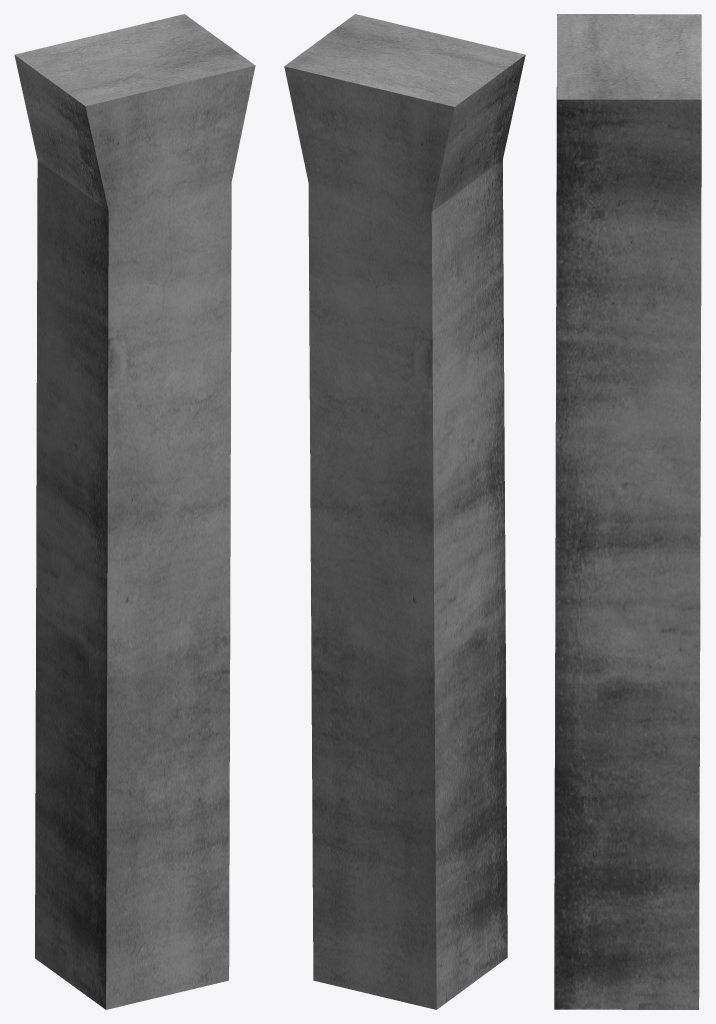
Rendered from pilarSmall.fbx.
3 renders of one model, left to right at view 1: azimuth 30°, elevation 25°; view 2: azimuth 150°, elevation 25°; view 3: azimuth 270°, elevation 25°, orthographic.
Parts seen in each view (by area): view 1: pilar; view 2: pilar; view 3: pilar.
Part boxes in pixels (x1=…): pilar: x1=14, y1=14, x2=255, y2=1009; pilar: x1=284, y1=14, x2=525, y2=1009; pilar: x1=554, y1=14, x2=701, y2=1009.
Bounding box in the file's own units: 0.9763 × 4.98 × 0.7183.
